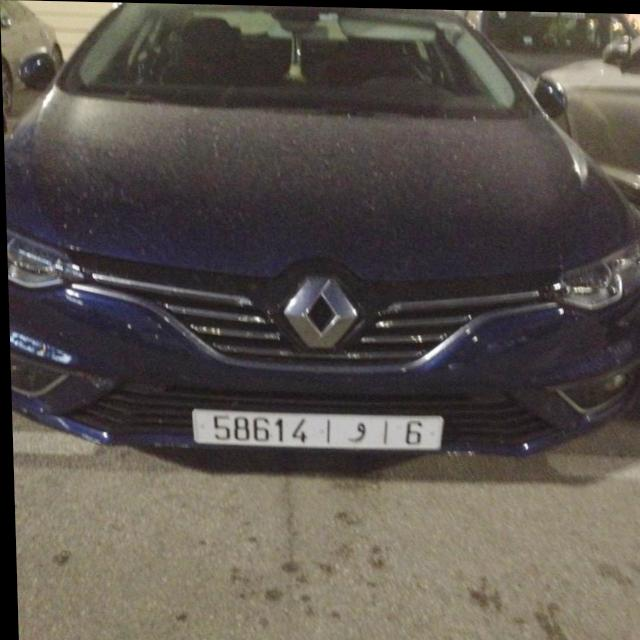License-Plate: (189, 408, 441, 448)
